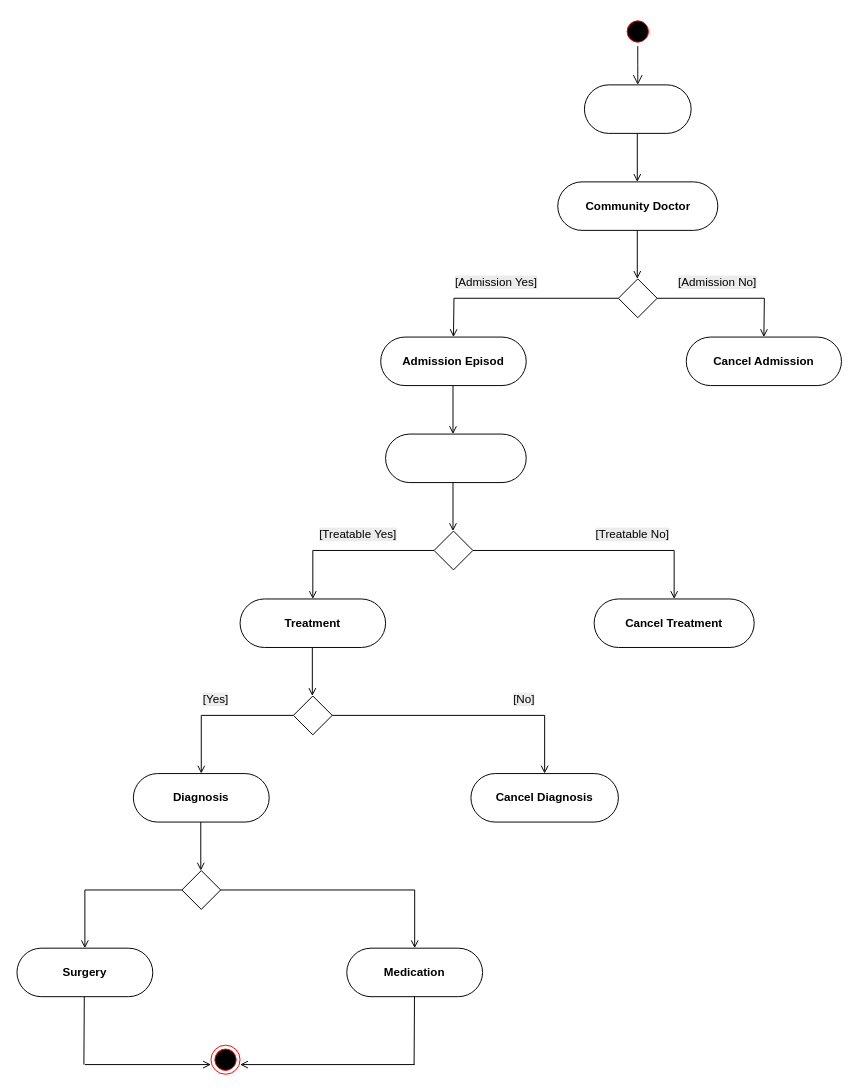
Some shapes in this 858 by 1091 pixel diagram are drawn without their labels. The centre of each missing label's shape, as x and y in pixels:
"Hospital Doctor" belongs at point 455,458.
"Patient" belongs at point 637,108.
